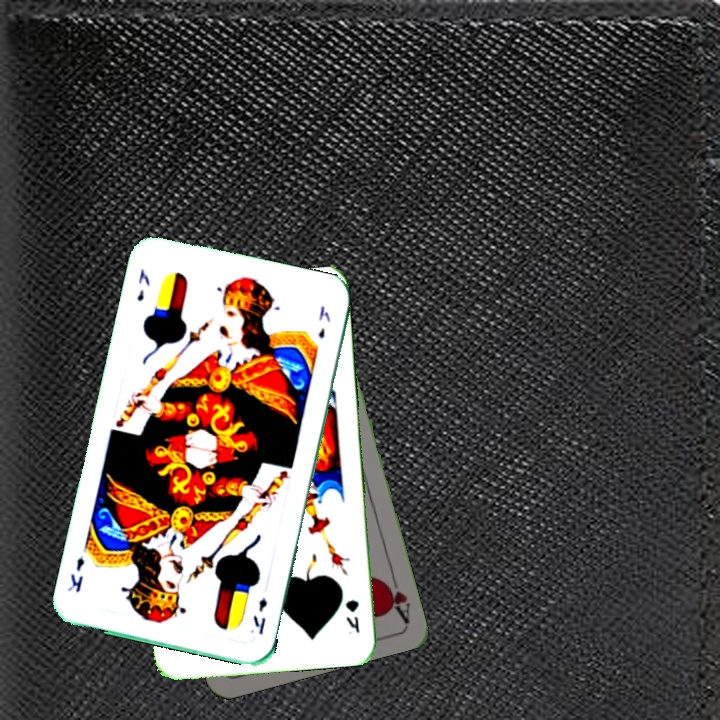EK: (249, 593, 270, 637), (133, 264, 153, 304)
GK: (341, 595, 362, 635)
HA: (378, 566, 413, 624)
